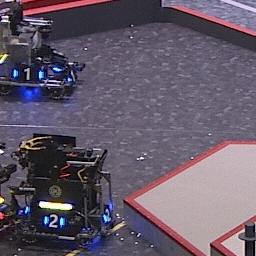Blue: (12, 66, 45, 83), (42, 213, 67, 229), (101, 205, 112, 225), (67, 69, 78, 83)
Robot: (8, 132, 117, 247), (1, 1, 86, 97)
